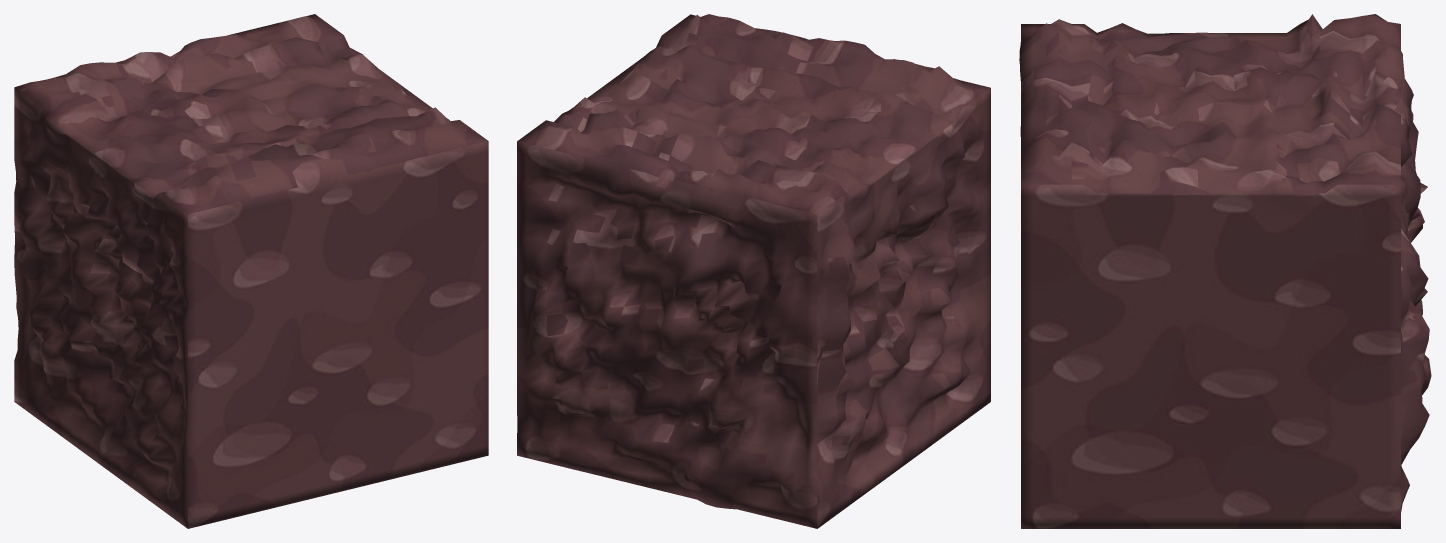
Rendered from ground sous chemin violet.fbx.
The picture shows the model from 3 angles, left to right: view 1: azimuth 30°, elevation 25°; view 2: azimuth 150°, elevation 25°; view 3: azimuth 270°, elevation 25°; orthographic projection. The views are drawn at different scales.
Parts seen in each view (by area): view 1: Box001; view 2: Box001; view 3: Box001.
Part boxes in pixels (x1,y1,x2,y2): Box001: (14,14,488,528); Box001: (517,14,990,528); Box001: (1019,14,1431,528).
Size of the model in its own units: 41.62 by 42.64 by 42.7.
